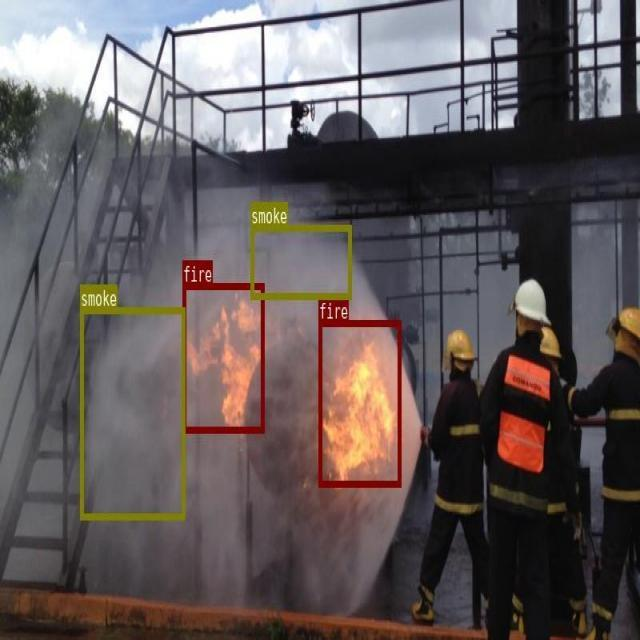fire: (318, 319, 400, 486), (182, 283, 264, 432)
smoke: (80, 307, 184, 519), (250, 225, 351, 298)
